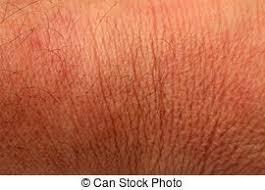Goosebumps: (0, 0, 264, 173)
